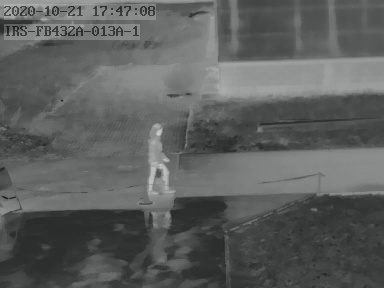person: (147, 121, 173, 194)
